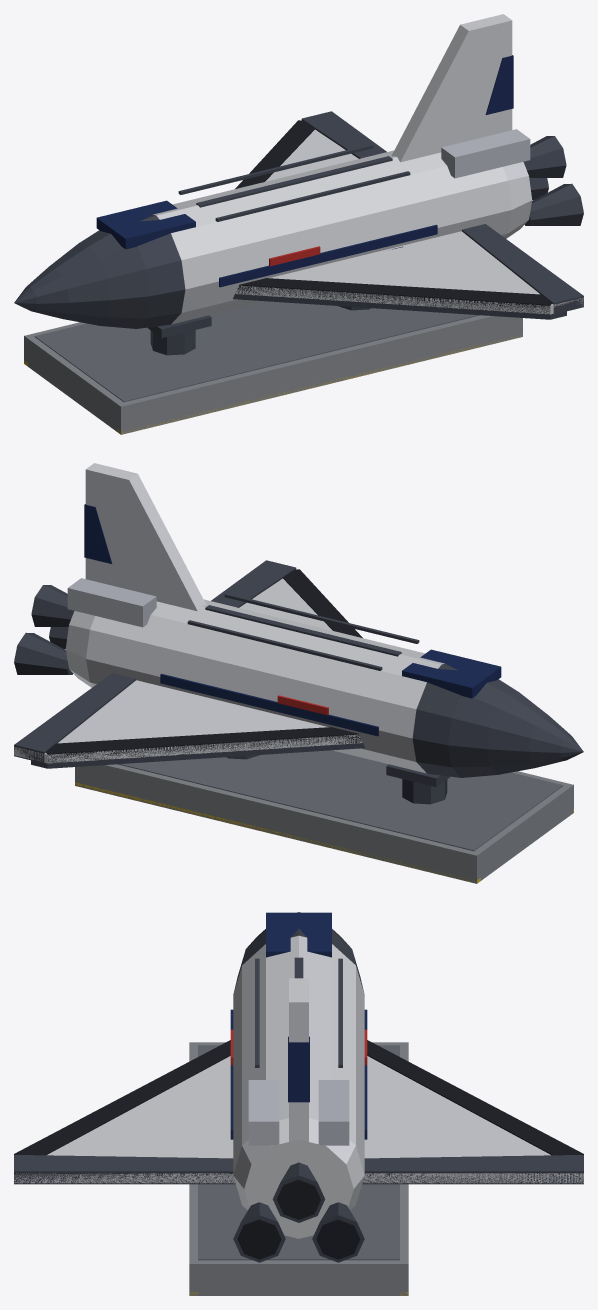
Rendered from Decor_LaunchPad_Shuttle.fbx.
The picture shows the model from 3 angles, top to bottom: view 1: azimuth 30°, elevation 25°; view 2: azimuth 150°, elevation 25°; view 3: azimuth 270°, elevation 25°; orthographic projection. The views are drawn at different scales.
Visible parts, largest first — view 1: Shuttle_Body; view 2: Shuttle_Body; view 3: Shuttle_Body.
Part boxes in pixels (left/top/right/bottom): Shuttle_Body: left=14, top=14, right=583, bottom=434; Shuttle_Body: left=14, top=463, right=583, bottom=883; Shuttle_Body: left=14, top=912, right=583, bottom=1295.
Bounding box in the file's own units: 32.3 × 15.7 × 26.
